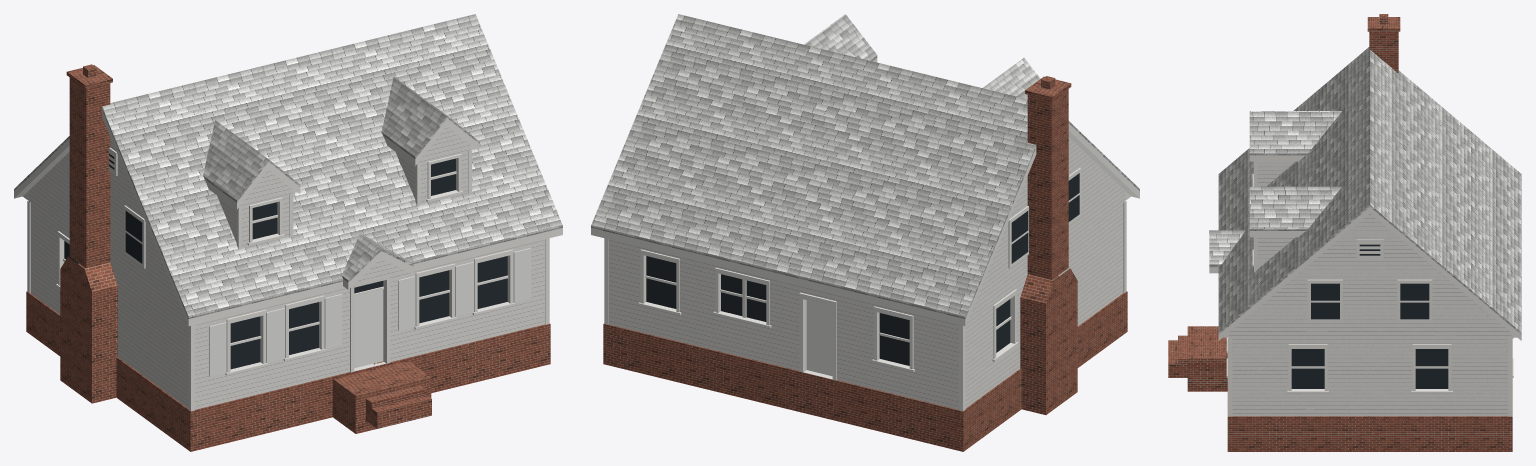
Rendered from house-cape.glb.
3 views of the same model, side by side, from view 1: azimuth 30°, elevation 25°; view 2: azimuth 150°, elevation 25°; view 3: azimuth 270°, elevation 25° (orthographic). The views are drawn at different scales.
Visible parts, largest first — view 1: House; view 2: House; view 3: House.
Boxes of the visible parts, x1,y1,x2,y2 form: House: (14,14,562,451); House: (591,14,1139,451); House: (1168,14,1521,451).
Bounding box in the file's own units: 11.4 × 8.94 × 10.26.
Materials: 6 (3 with a texture image).
